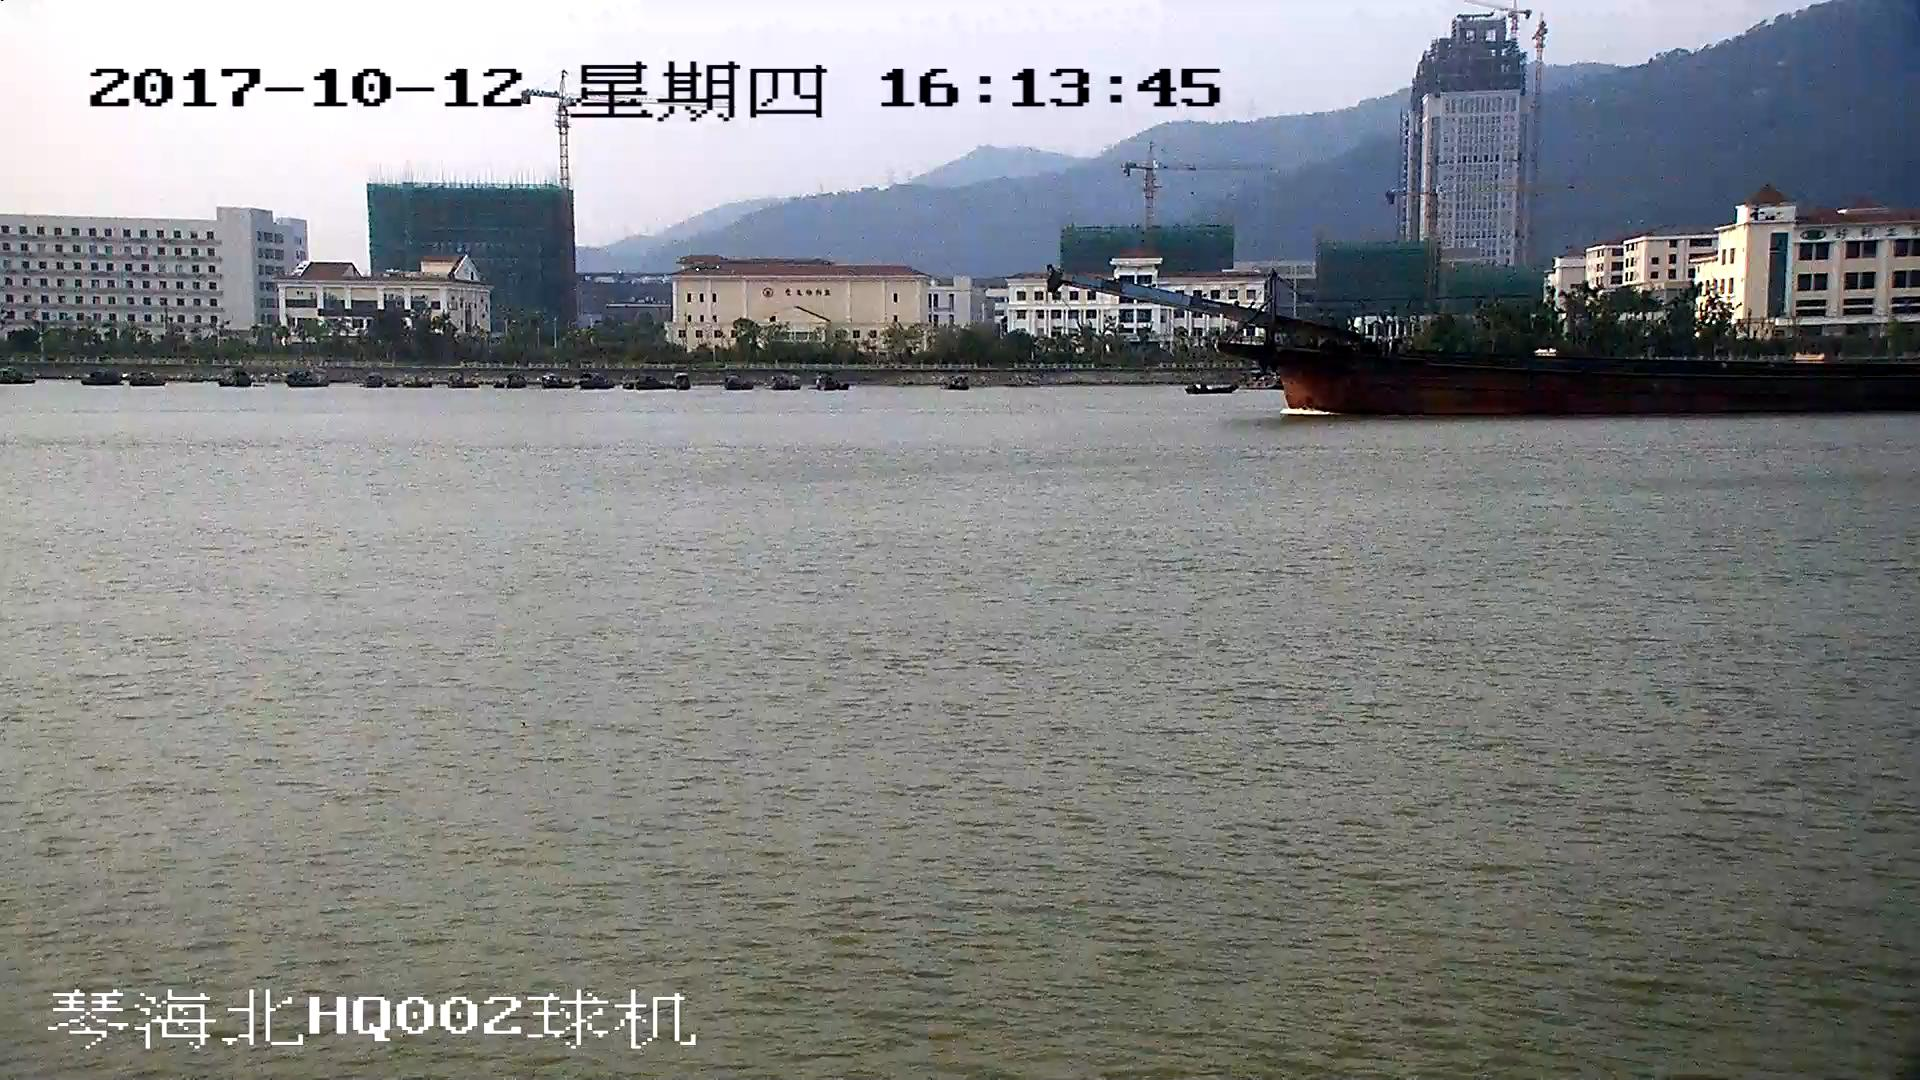bulk cargo carrier: (1048, 268, 1920, 415)
